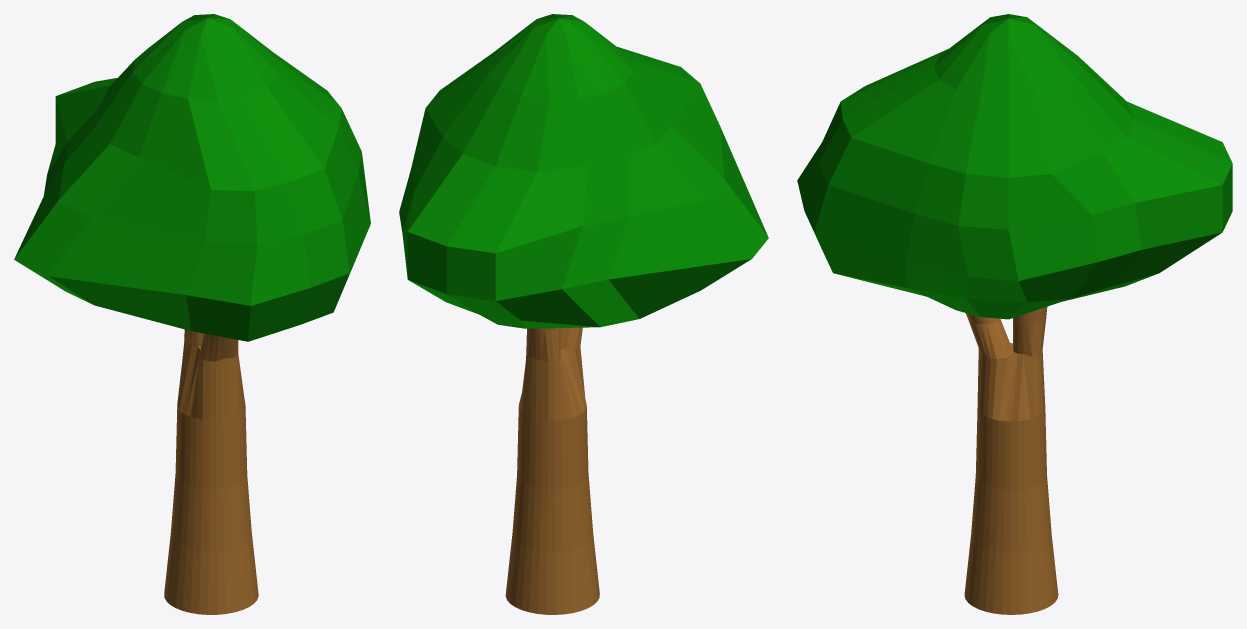
Rendered from Tree.fbx.
3 views of the same model, side by side, from view 1: azimuth 30°, elevation 25°; view 2: azimuth 150°, elevation 25°; view 3: azimuth 270°, elevation 25° (orthographic).
Parts seen in each view (by area): view 1: Tree; view 2: Tree; view 3: Tree.
Part boxes in pixels (<box>): Tree: <box>14,14,370,614</box>; Tree: <box>399,14,768,614</box>; Tree: <box>797,14,1232,614</box>.
Size of the model in its own units: 288 by 471 by 324.
